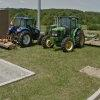Tractor: (15, 11, 83, 56)
